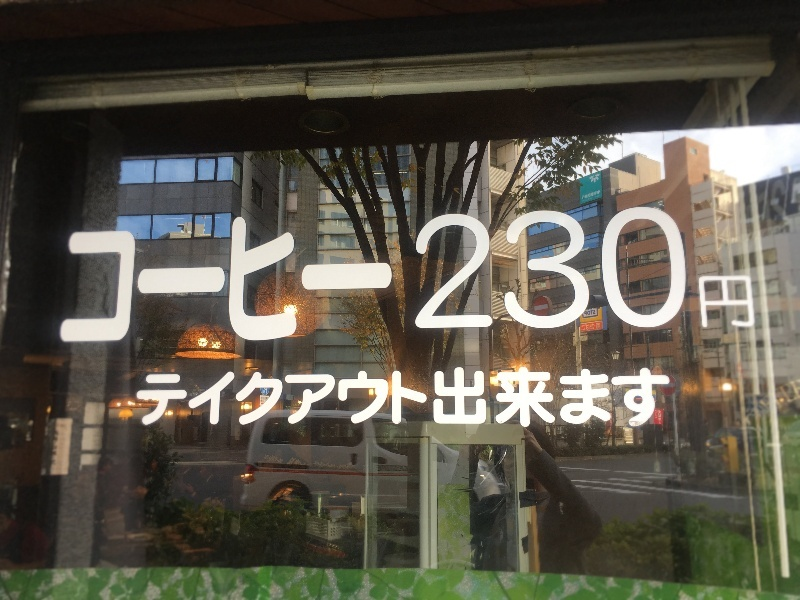text: (81, 205, 96, 346), (97, 205, 112, 346), (113, 205, 128, 346), (129, 205, 144, 346), (145, 205, 160, 346), (161, 205, 176, 346), (177, 205, 192, 346), (193, 205, 208, 346), (209, 205, 224, 346), (225, 205, 240, 346), (241, 205, 256, 346), (257, 205, 272, 346), (273, 205, 288, 346), (289, 205, 304, 346), (305, 205, 320, 346), (321, 205, 336, 346), (337, 205, 352, 346), (353, 205, 368, 346), (369, 205, 384, 346), (385, 205, 400, 346), (401, 205, 416, 346), (417, 205, 432, 346), (433, 205, 448, 346), (449, 205, 464, 346), (465, 205, 480, 346), (481, 205, 496, 346), (497, 205, 512, 346), (513, 205, 528, 346), (529, 205, 544, 346), (545, 205, 560, 346), (561, 205, 576, 346), (577, 205, 592, 346), (593, 205, 608, 346), (609, 205, 624, 346), (625, 205, 640, 346), (641, 205, 656, 346), (657, 205, 672, 346), (673, 205, 688, 346), (689, 205, 704, 346), (705, 205, 720, 346), (721, 205, 736, 346), (737, 205, 752, 346), (70, 205, 80, 346), (145, 368, 160, 428), (161, 368, 176, 428), (177, 368, 192, 428), (193, 368, 208, 428), (209, 368, 224, 428), (225, 368, 240, 428), (241, 368, 256, 428), (257, 368, 272, 428), (273, 368, 288, 428), (289, 368, 304, 428), (305, 368, 320, 428), (321, 368, 336, 428), (337, 368, 352, 428), (353, 368, 368, 428), (369, 368, 384, 428), (385, 368, 400, 428), (401, 368, 416, 428), (417, 368, 432, 428), (433, 368, 448, 428), (449, 368, 464, 428), (465, 368, 480, 428), (481, 368, 496, 428), (497, 368, 512, 428), (513, 368, 528, 428), (529, 368, 544, 428), (545, 368, 560, 428), (561, 368, 576, 428), (577, 368, 592, 428), (593, 368, 608, 428), (609, 368, 624, 428), (625, 368, 640, 428), (641, 368, 656, 428), (771, 178, 784, 241), (657, 368, 670, 428), (785, 379, 800, 415), (785, 178, 792, 241), (753, 205, 756, 346), (139, 368, 144, 428), (609, 413, 624, 432), (777, 379, 784, 415), (593, 307, 602, 332), (261, 388, 272, 407), (584, 307, 592, 332), (582, 190, 592, 203), (385, 465, 400, 473), (593, 190, 600, 203), (657, 410, 662, 425), (376, 465, 384, 473), (401, 465, 408, 473), (655, 410, 656, 425)
